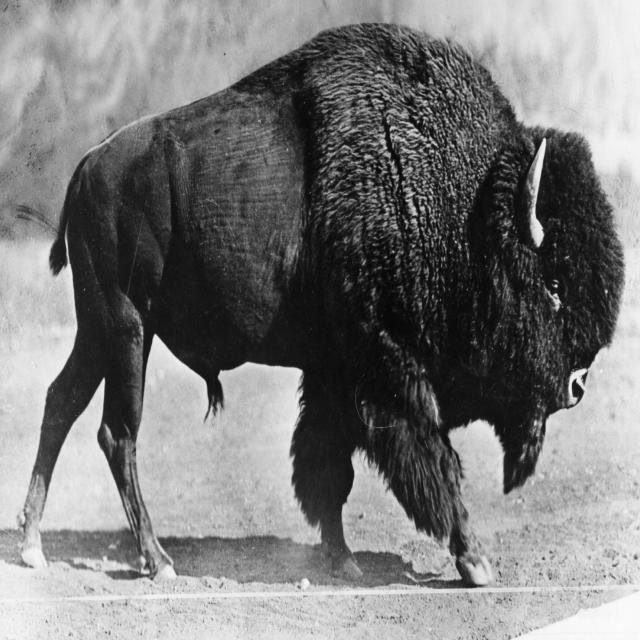Bison: (17, 17, 627, 603)
